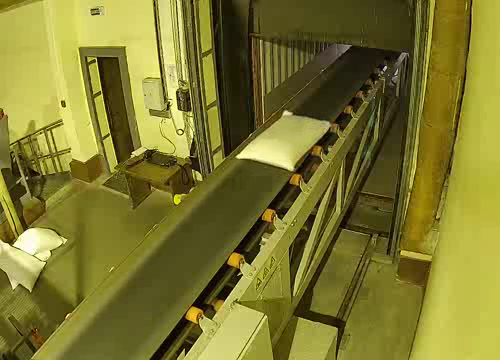bag: (234, 103, 340, 180)
